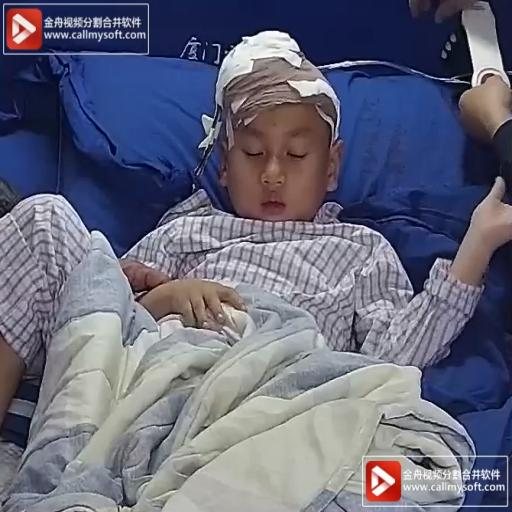Seizure: (195, 26, 346, 221)
